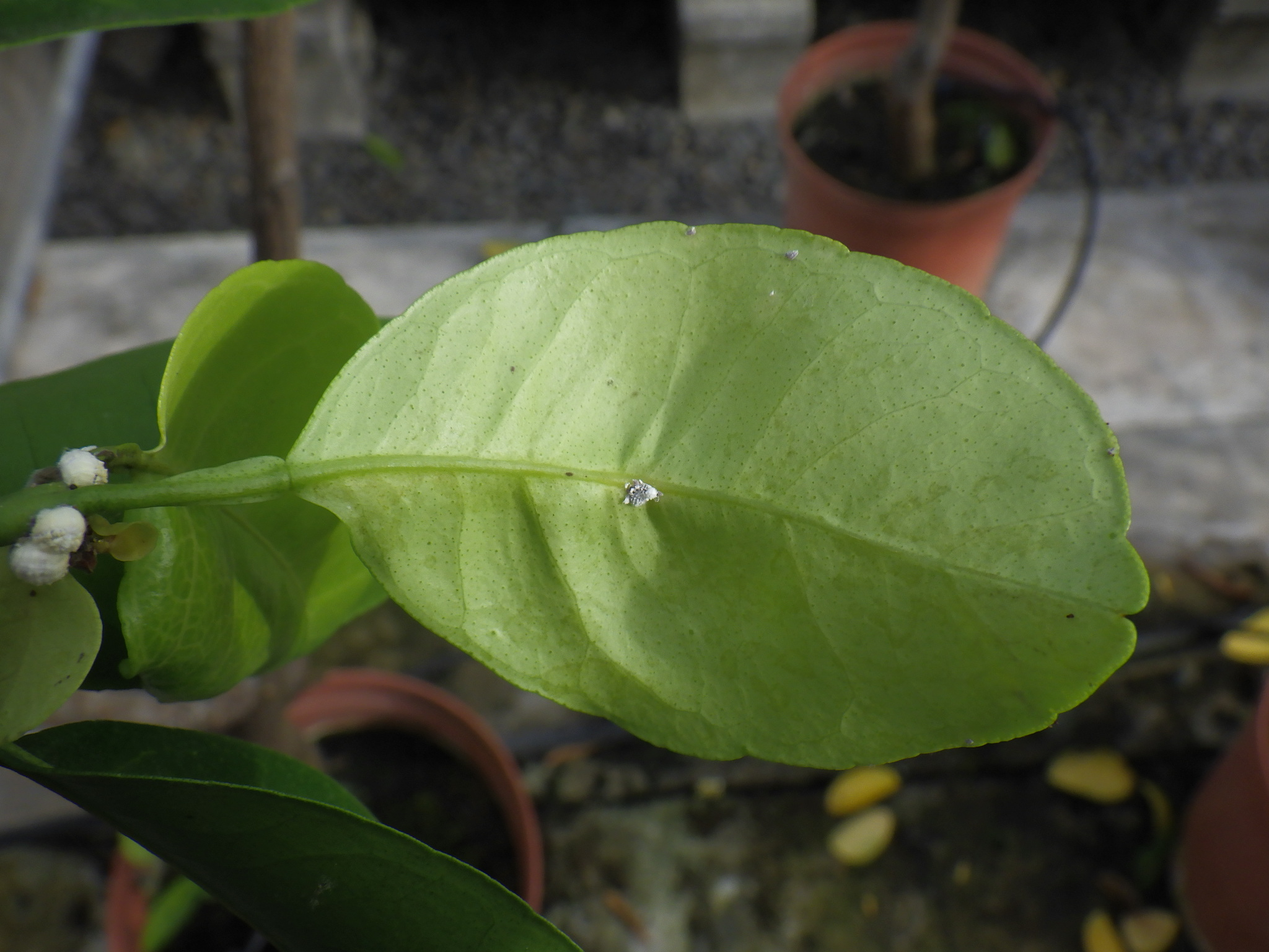Scale_Insect: (621, 478, 662, 506)
